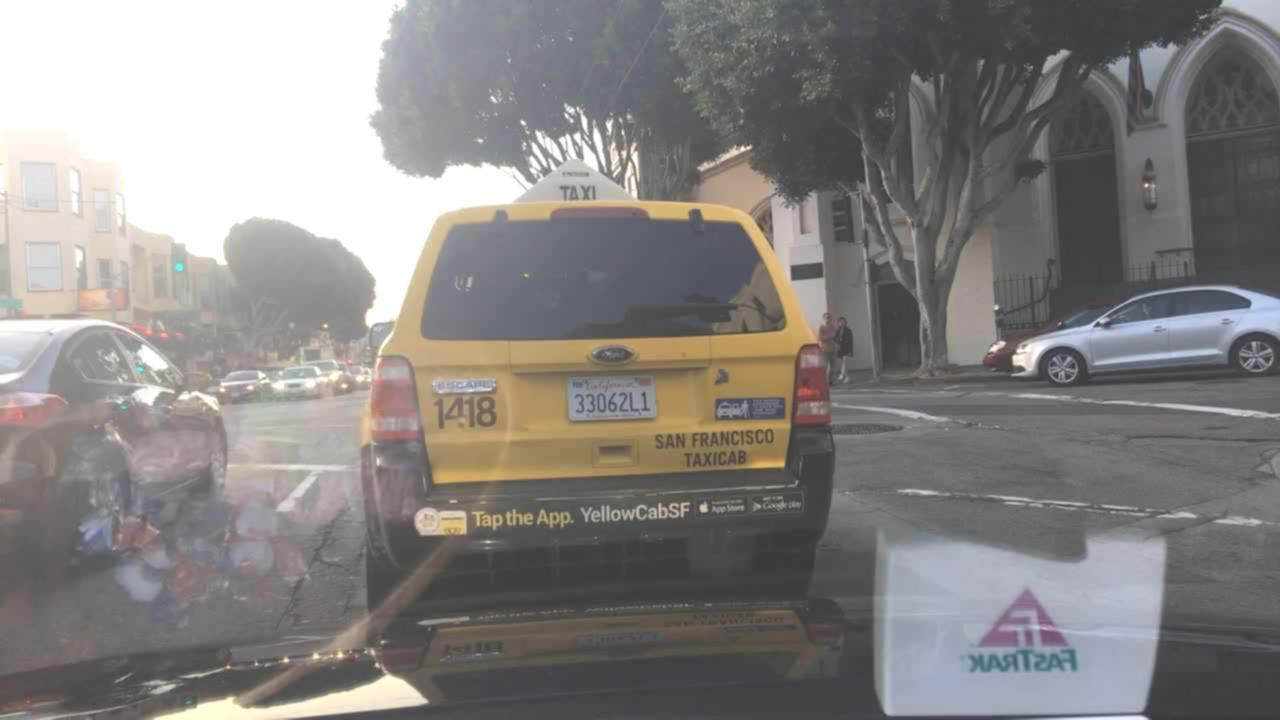ford: (582, 343, 642, 368)
